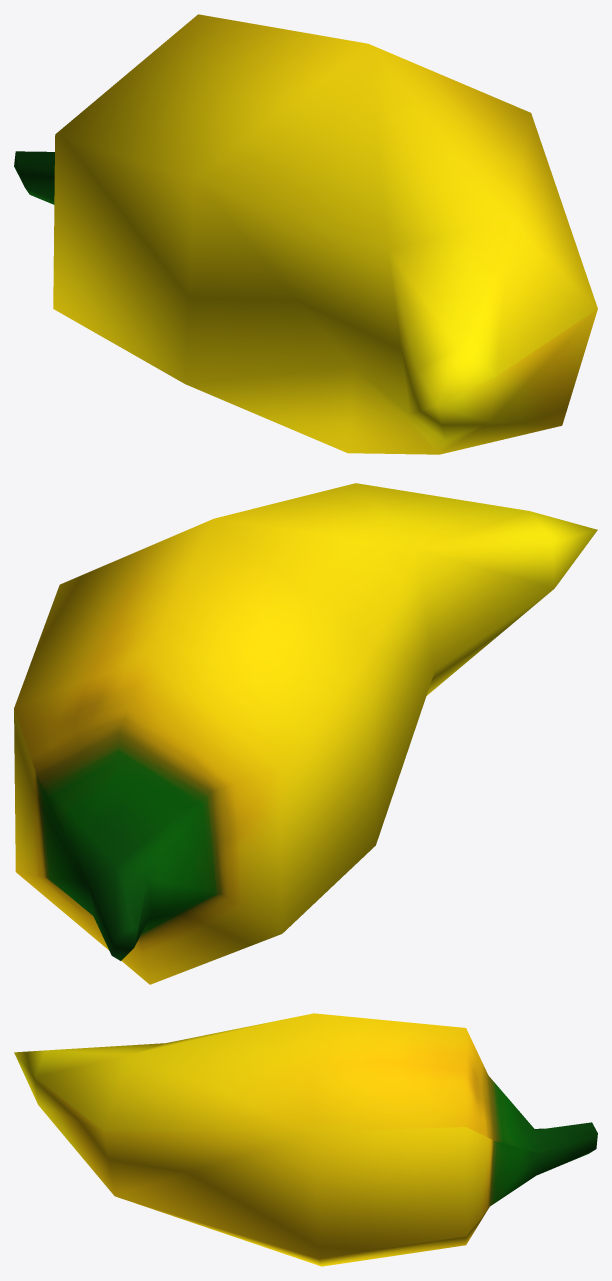
The model's file is SM_PROP_food_chili_03.FBX.
3 views of the same model, one above another, from view 1: azimuth 30°, elevation 25°; view 2: azimuth 150°, elevation 25°; view 3: azimuth 270°, elevation 25° (orthographic). The views are drawn at different scales.
Visible parts, largest first — view 1: SM_PROP_food_chili_03; view 2: SM_PROP_food_chili_03; view 3: SM_PROP_food_chili_03.
Part boxes in pixels (x1,y1,x2,y2): SM_PROP_food_chili_03: (14, 14, 597, 454); SM_PROP_food_chili_03: (14, 483, 597, 984); SM_PROP_food_chili_03: (14, 1013, 597, 1266).
Bounding box in the file's own units: 14.83 × 33.42 × 16.27.
